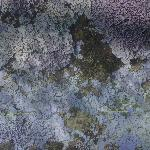dead: (2, 1, 148, 148)
